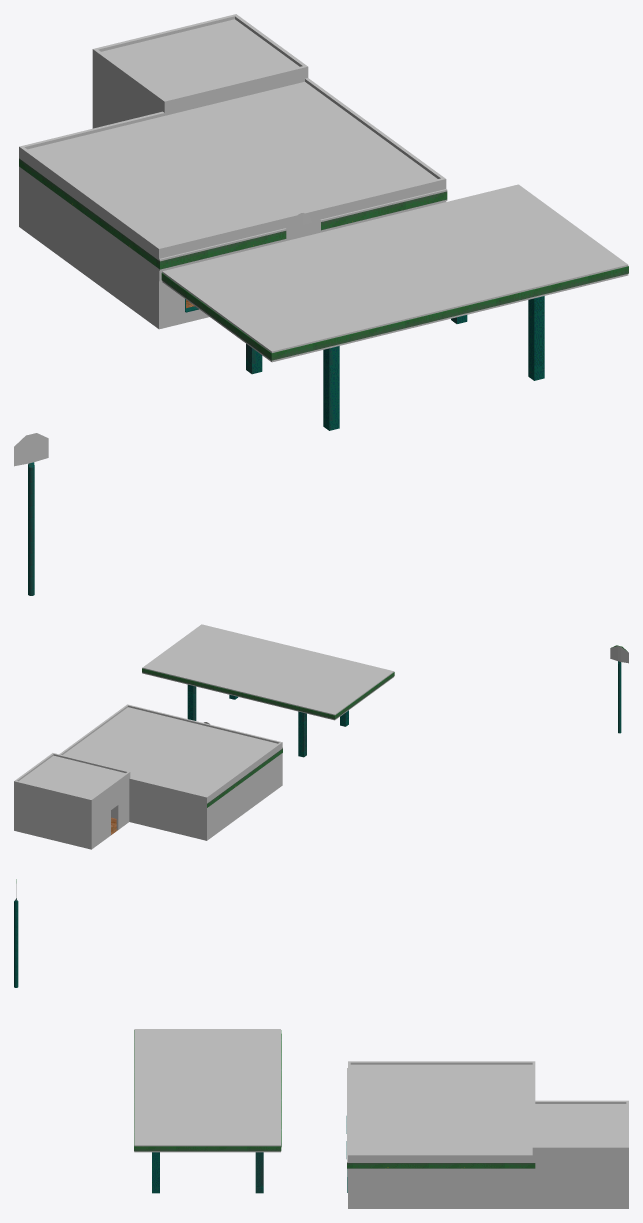
Rendered from gasStation.fbx.
3 views of the same model, one above another, from view 1: azimuth 30°, elevation 25°; view 2: azimuth 150°, elevation 25°; view 3: azimuth 270°, elevation 25° (orthographic). The views are drawn at different scales.
Visible parts, largest first — view 1: Cube; view 2: Cube; view 3: Cube.
Boxes of the visible parts, box(x1,y1,x2,y2) form: Cube: box(14, 14, 628, 595); Cube: box(14, 624, 628, 849); Cube: box(14, 879, 628, 1208).
Bounding box in the file's own units: 5806 × 1330 × 6573.
